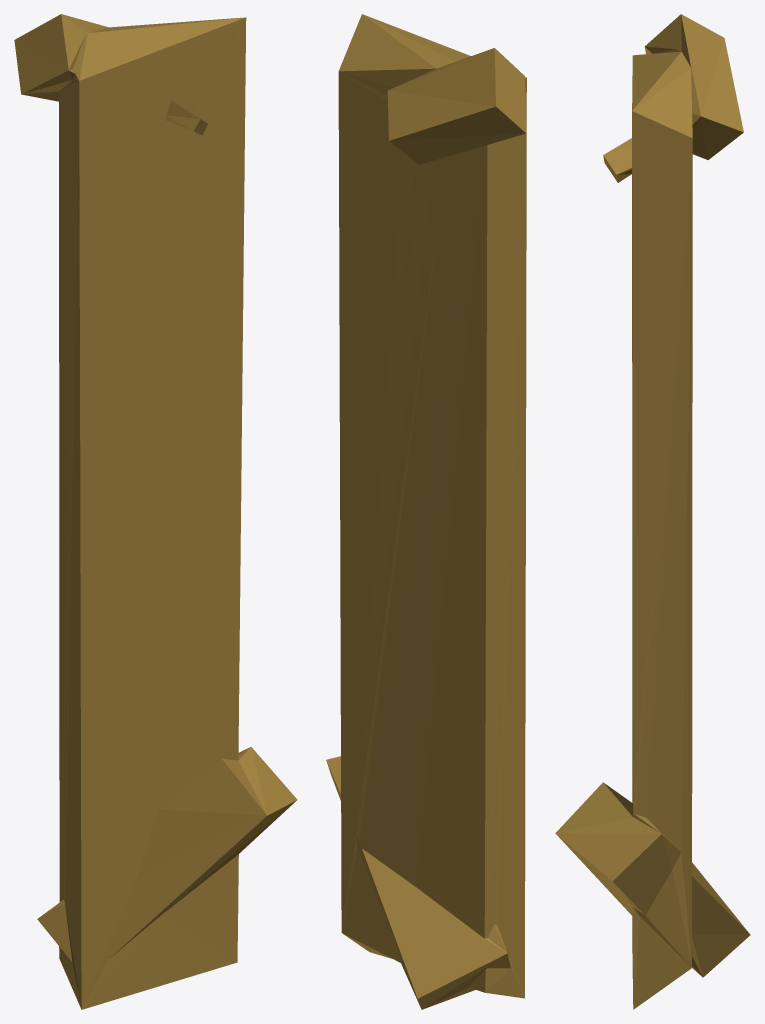
The picture shows the model from 3 angles, left to right: view 1: azimuth 30°, elevation 25°; view 2: azimuth 150°, elevation 25°; view 3: azimuth 270°, elevation 25°; orthographic projection. The views are drawn at different scales.
Parts seen in each view (by area): view 1: 593_Cube.2385; view 2: 593_Cube.2385; view 3: 593_Cube.2385.
Boxes of the visible parts, x1,y1,x2,y2 form: 593_Cube.2385: (14, 14, 297, 1009); 593_Cube.2385: (326, 14, 526, 1009); 593_Cube.2385: (555, 14, 750, 1009).
Size of the model in its own units: 3.16 by 12.46 by 2.36.
